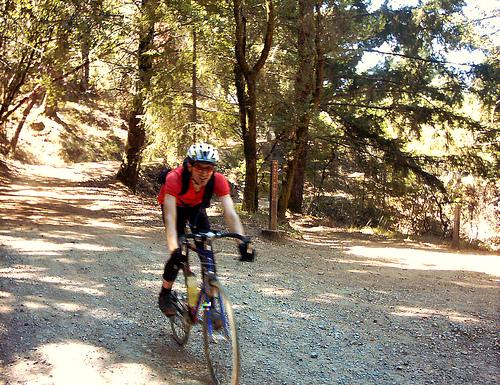car: (158, 228, 257, 385)
person: (157, 142, 257, 328)
